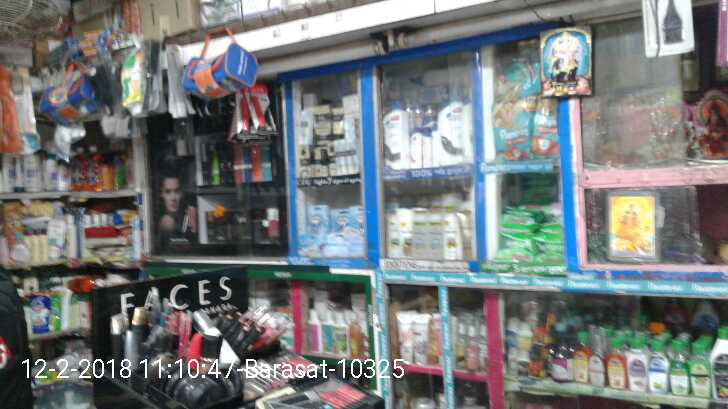venus: (326, 230, 364, 256), (332, 208, 359, 229), (298, 233, 320, 256), (309, 204, 328, 229)
